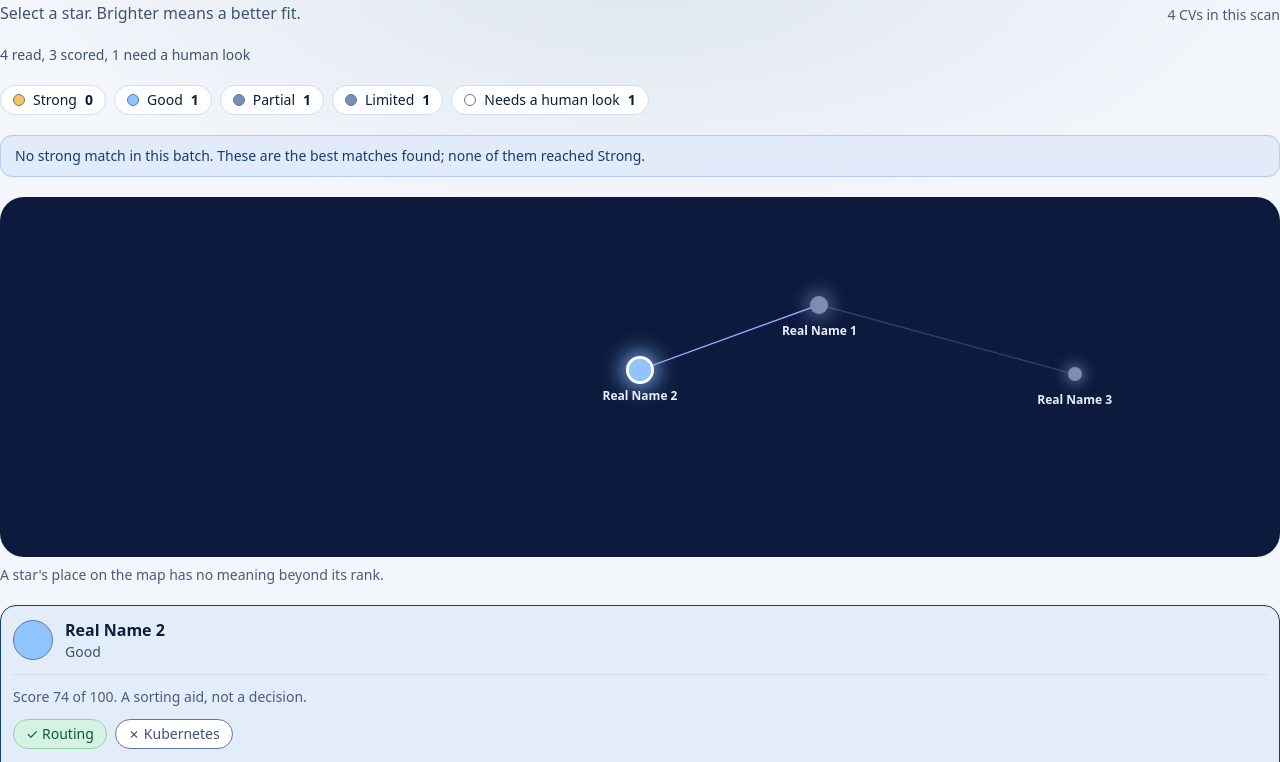
Test: Results: bands, names hidden, proof › opens the exact CV quote behind a skill, and says what was searched when it is missing
Click the button with aria-label "Routing: Found": (60,734) [13,719,107,749]
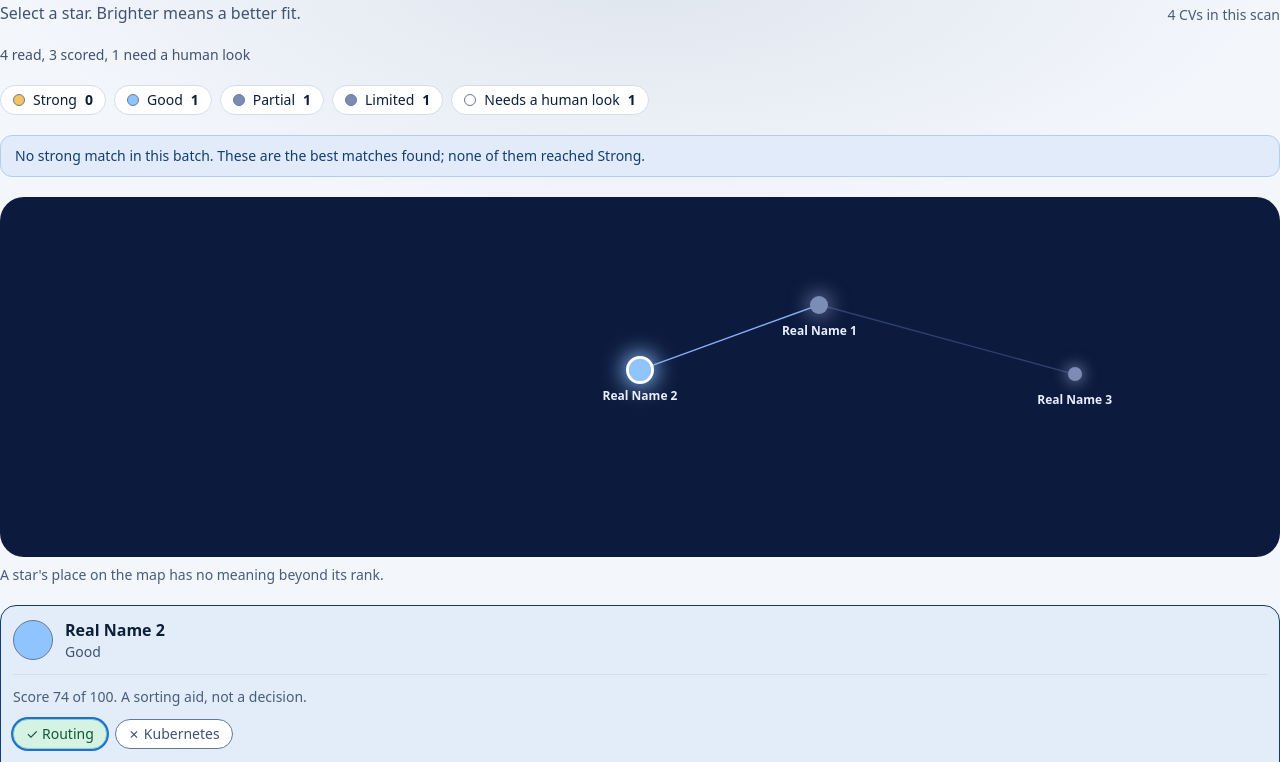
Click the button with aria-label "Kubernetes: Not found": (174,734) [115,719,233,749]
(page scrolled)
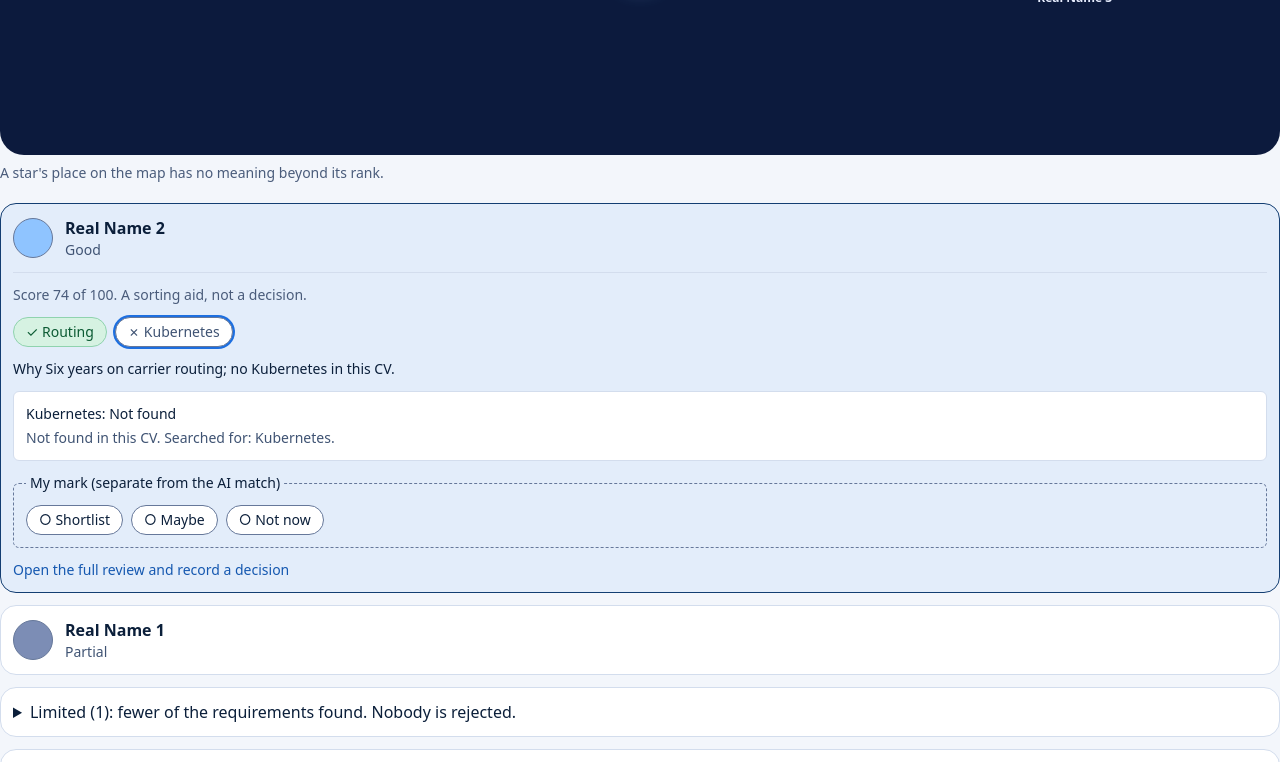
expect the text "Why Six years on carrier routing; no Kubernetes in this CV." is shown: met, box [13,359,395,378]
expect the text "Not found in this CV. Searched for: Kubernetes." is shown: met, box [26,428,335,447]
